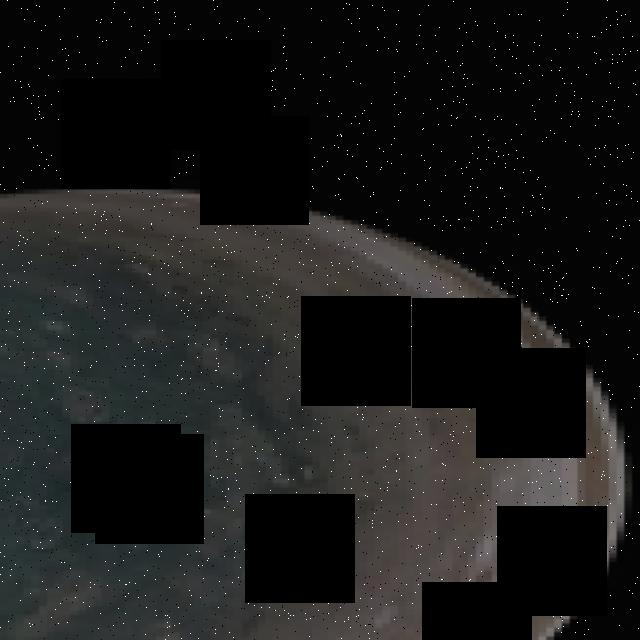Jupiter: (0, 188, 632, 640)
